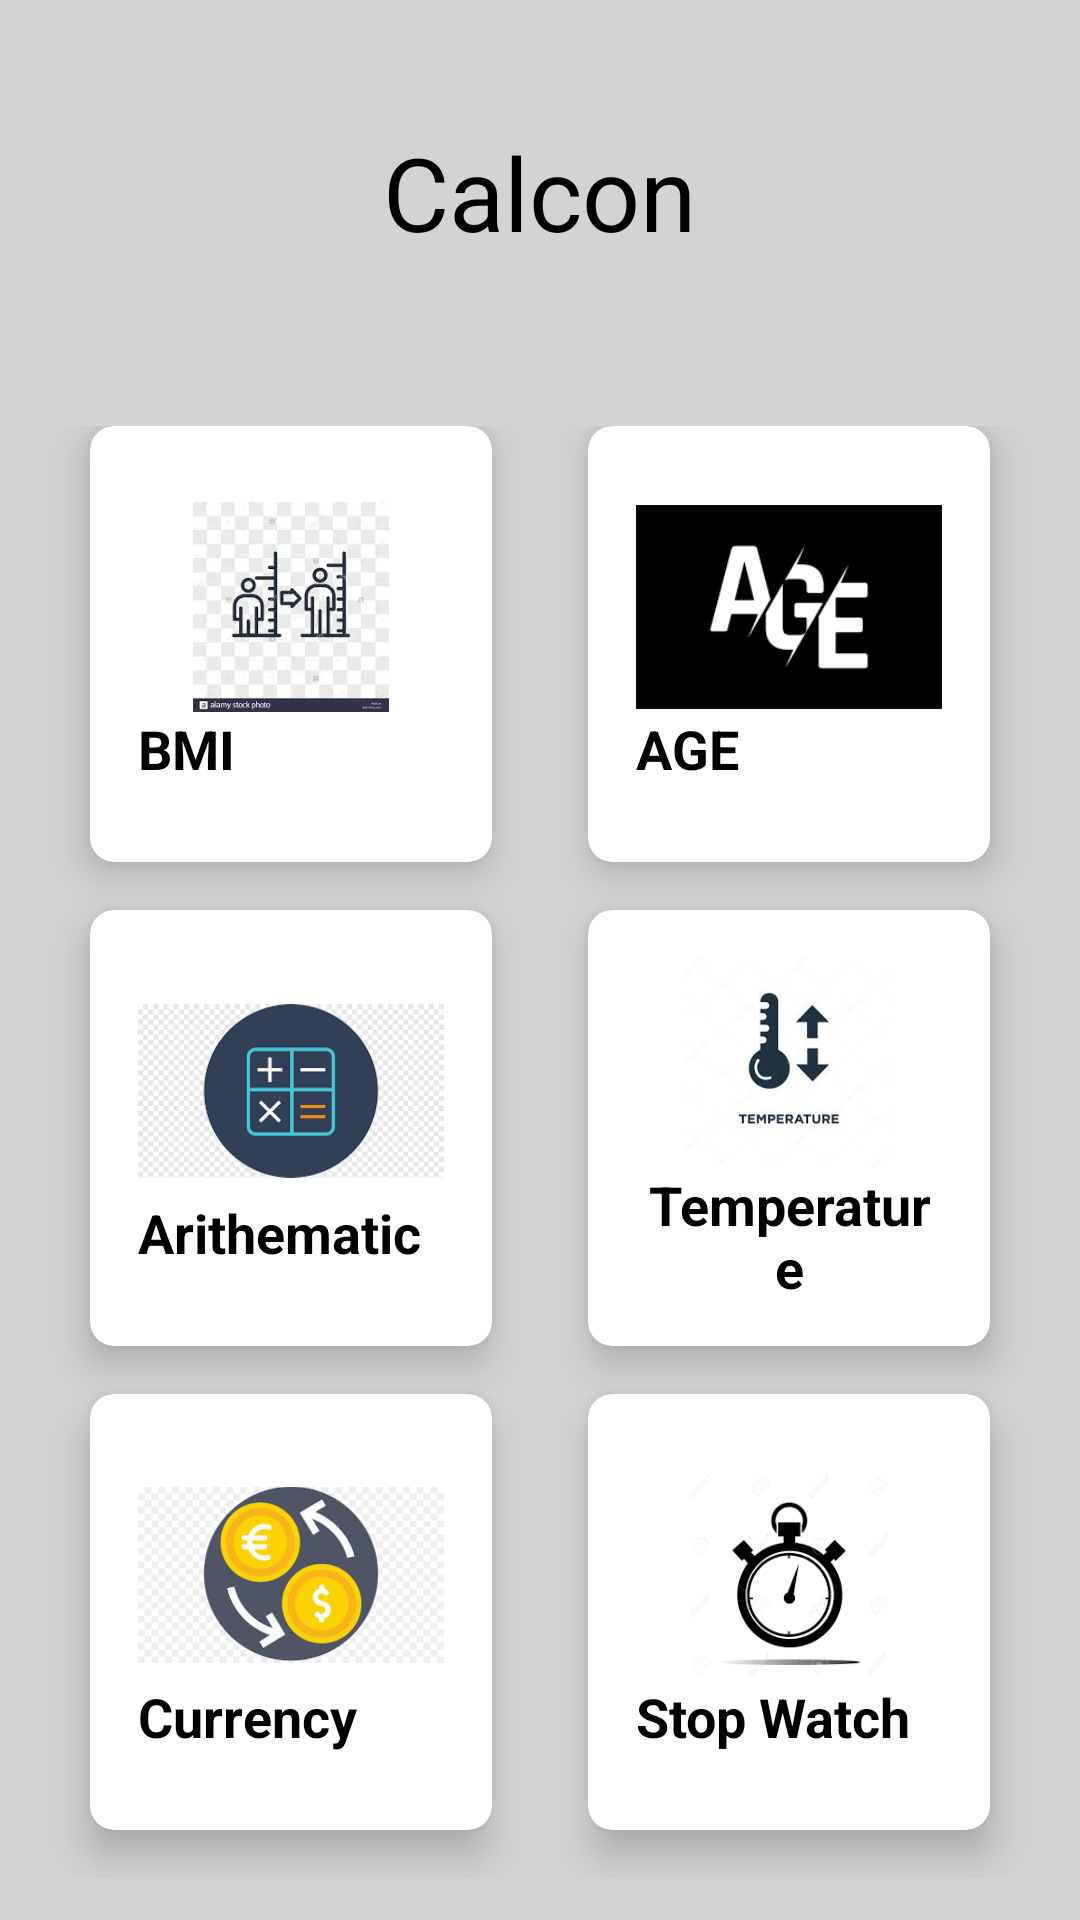

Screen size 1080*1920. Icon name, then its center in pixels as (x,y):
calcu: (291,1091)
